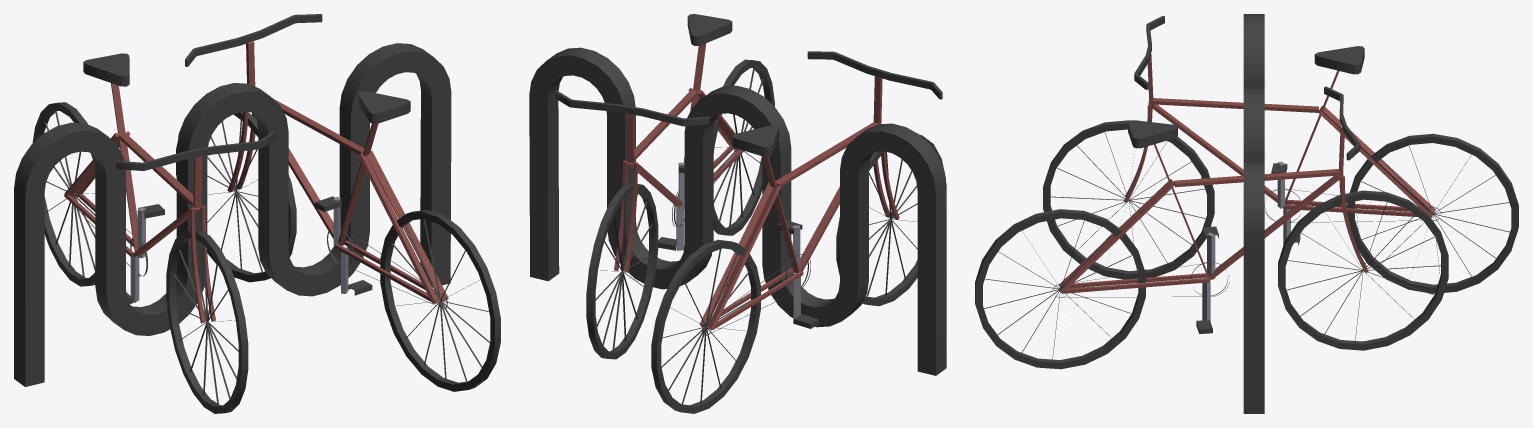
Rendered from Bike Rack.fbx.
3 views of the same model, side by side, from view 1: azimuth 30°, elevation 25°; view 2: azimuth 150°, elevation 25°; view 3: azimuth 270°, elevation 25° (orthographic). The views are drawn at different scales.
Parts seen in each view (by area): view 1: Model; view 2: Model; view 3: Model.
Part boxes in pixels (x1=…): Model: x1=14, y1=14, x2=500, y2=413; Model: x1=529, y1=14, x2=946, y2=413; Model: x1=975, y1=14, x2=1518, y2=413.
Size of the model in its own units: 1.68 by 0.9486 by 2.
